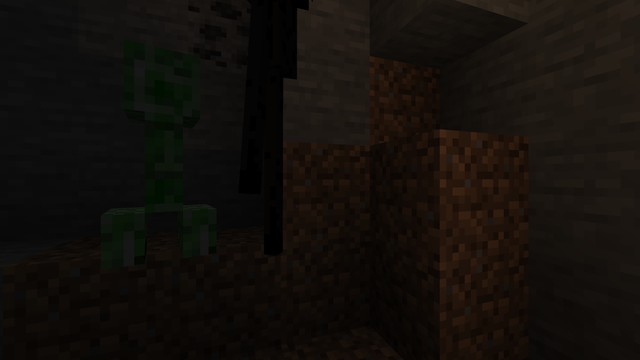creepers: (104, 25, 204, 268)
endermens: (246, 1, 319, 254)
